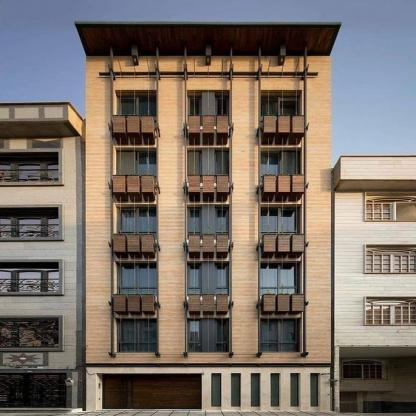Building Outline: (74, 20, 342, 412)
Door: (102, 374, 202, 409)
Facade: (86, 56, 331, 411)
Floor: (86, 251, 331, 308), (86, 192, 331, 247), (86, 136, 331, 189), (86, 311, 331, 360)
Floor Slab: (86, 247, 331, 251), (86, 308, 331, 311), (86, 189, 331, 192), (86, 133, 331, 136), (86, 360, 331, 363)
Ground Floor: (86, 363, 331, 412)
Roof: (74, 20, 342, 56)
Top Floor: (86, 56, 331, 133)
Window: (261, 319, 300, 352), (261, 263, 300, 296), (117, 319, 156, 351), (117, 263, 156, 295), (117, 207, 156, 233), (261, 207, 300, 232), (261, 151, 300, 175), (117, 151, 156, 175), (261, 96, 300, 119), (117, 96, 156, 119), (187, 263, 202, 296), (188, 319, 202, 352), (215, 263, 229, 296), (217, 319, 229, 352), (187, 207, 202, 232), (187, 151, 202, 175), (215, 207, 229, 232), (187, 96, 202, 119), (211, 373, 221, 407), (270, 373, 280, 407), (290, 373, 300, 407), (215, 151, 229, 175), (215, 96, 229, 119), (310, 373, 319, 407), (231, 373, 240, 407), (251, 373, 260, 407)
Window Hole: (187, 260, 229, 296), (116, 318, 158, 353), (115, 261, 157, 295), (261, 261, 301, 296), (261, 317, 301, 352), (188, 318, 229, 352), (187, 204, 229, 235), (114, 90, 156, 119), (187, 90, 229, 119), (115, 204, 156, 233), (187, 147, 229, 175), (261, 90, 301, 119), (115, 147, 156, 175), (261, 204, 302, 232), (261, 147, 301, 175)
